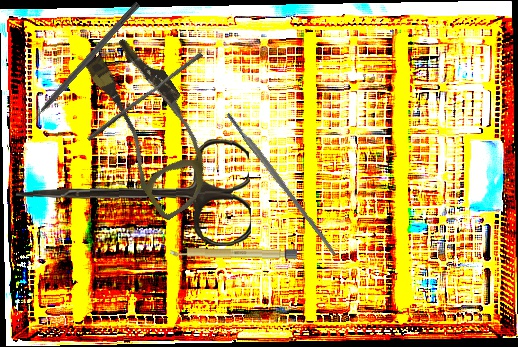Cannula: (66, 29, 236, 223)
Hook Surgical: (22, 0, 141, 130)
Iris Scissors: (14, 137, 252, 254)
Pusher: (86, 48, 204, 146)
Scalpel Handle: (225, 110, 339, 258), (169, 246, 298, 260)
